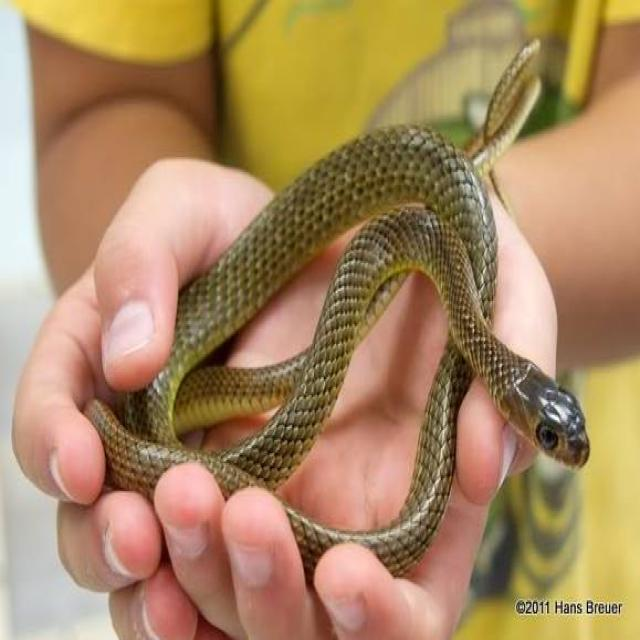Snake: (82, 35, 590, 602)
